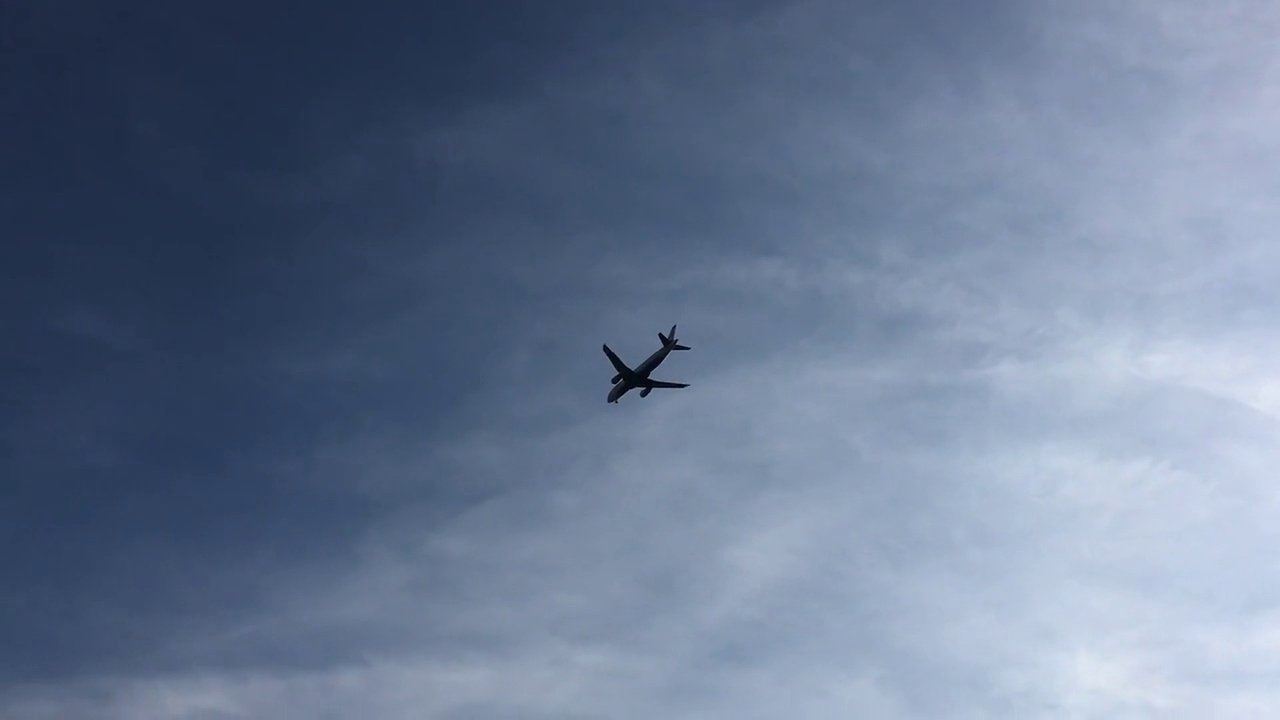plane: (600, 324, 693, 404)
